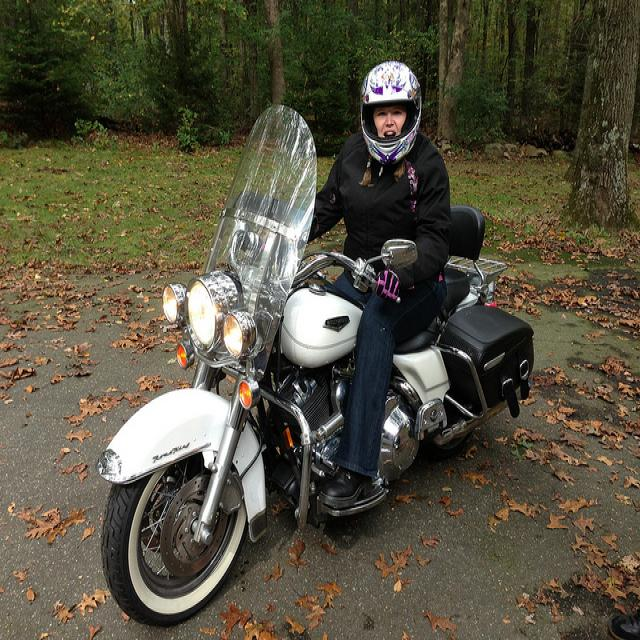motor: (95, 99, 533, 624)
